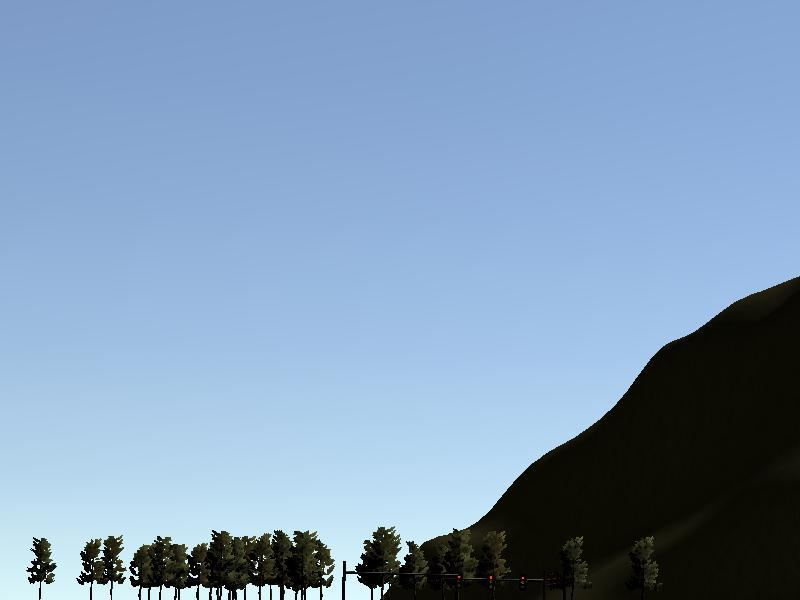Red: (455, 573, 463, 586), (519, 574, 526, 585), (488, 575, 493, 585)
